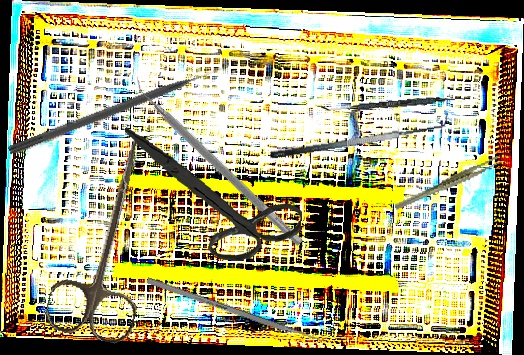Iris Scissors: (42, 125, 175, 347), (116, 126, 308, 266)
Pusher: (7, 63, 227, 158), (146, 277, 334, 348)
Spatula Surgical: (126, 73, 311, 247), (267, 111, 452, 161), (320, 92, 466, 116)
Tissue Forceps: (389, 154, 507, 212)
